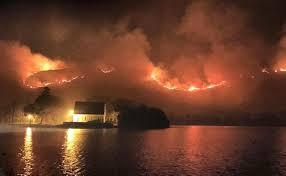fire: (147, 65, 225, 92)
